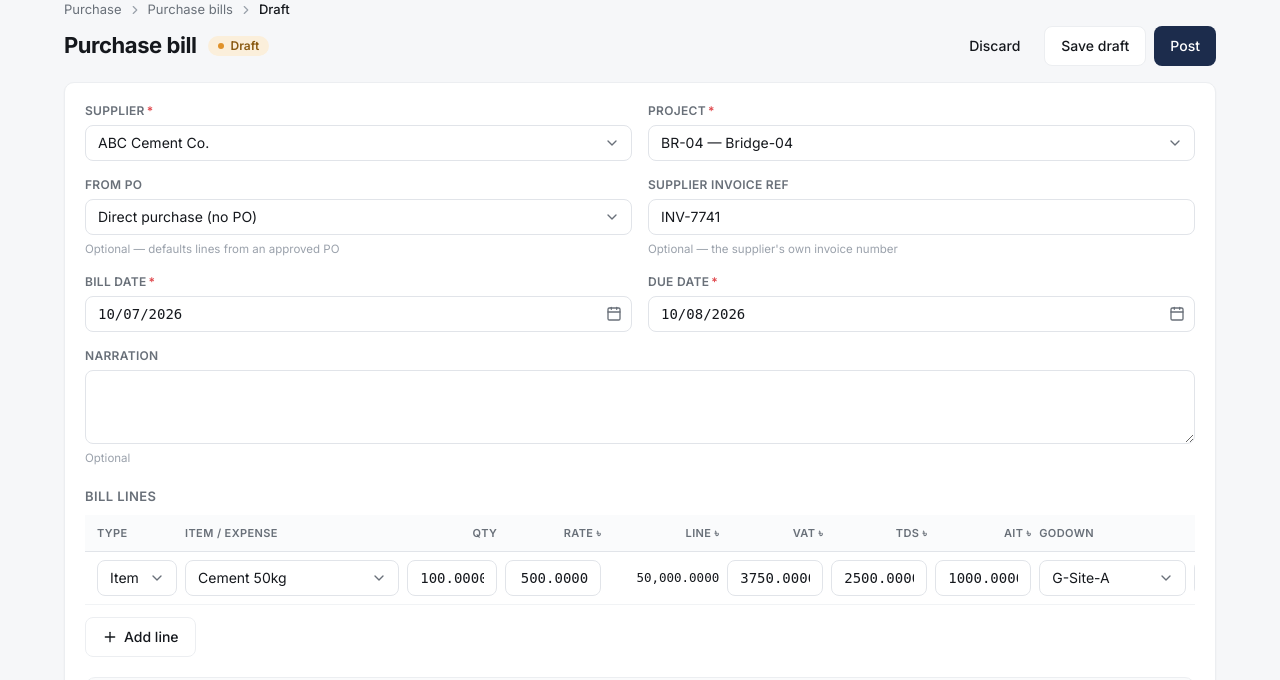
Test: BillEditor (spec §4.editor/§6/§7; FR-PUR-004/-005/-007/-024) › maps PERIOD_CLOSED to the exact spec §8 posting-guard banner
Expected: the heading "Purchase bill" is shown, [64, 29, 196, 62]
Click the button with test id "bill-post" at coordinates (1185, 46), box [1154, 26, 1216, 66]
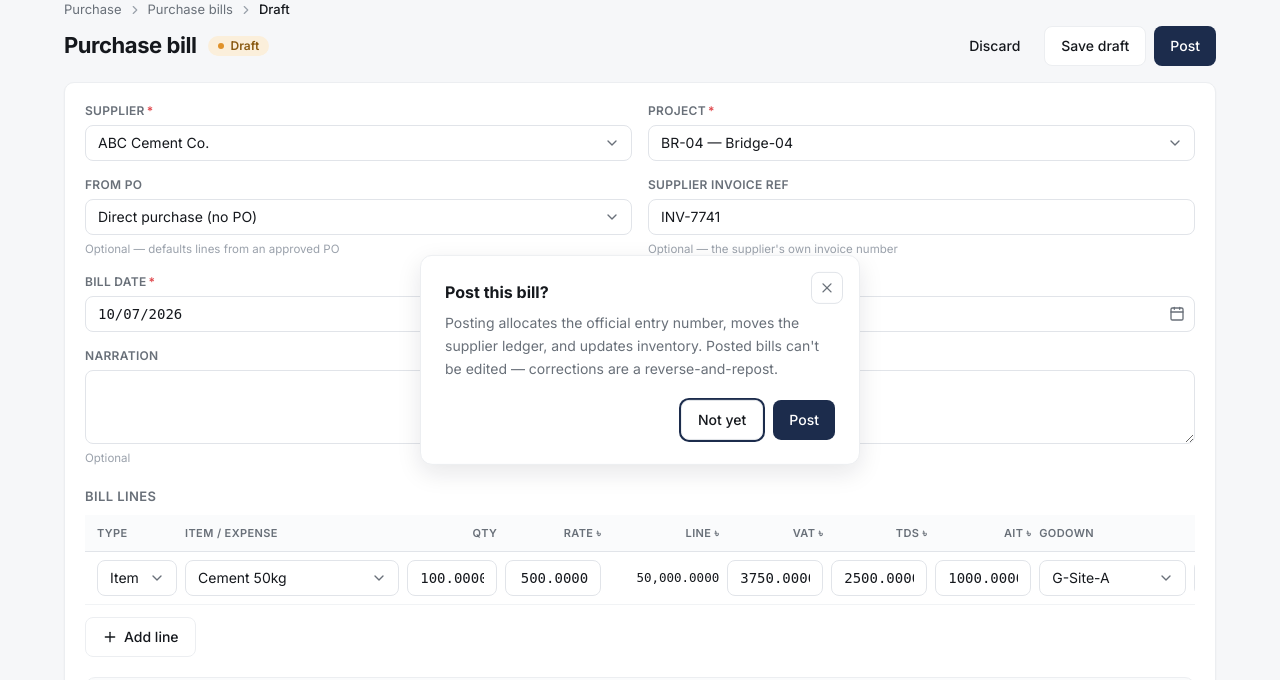
Expected: the dialog with test id "bill-post-dialog" is shown, [420, 255, 860, 465]
Click the button with test id "bill-post-confirm" at coordinates (804, 420), box [773, 400, 835, 440]
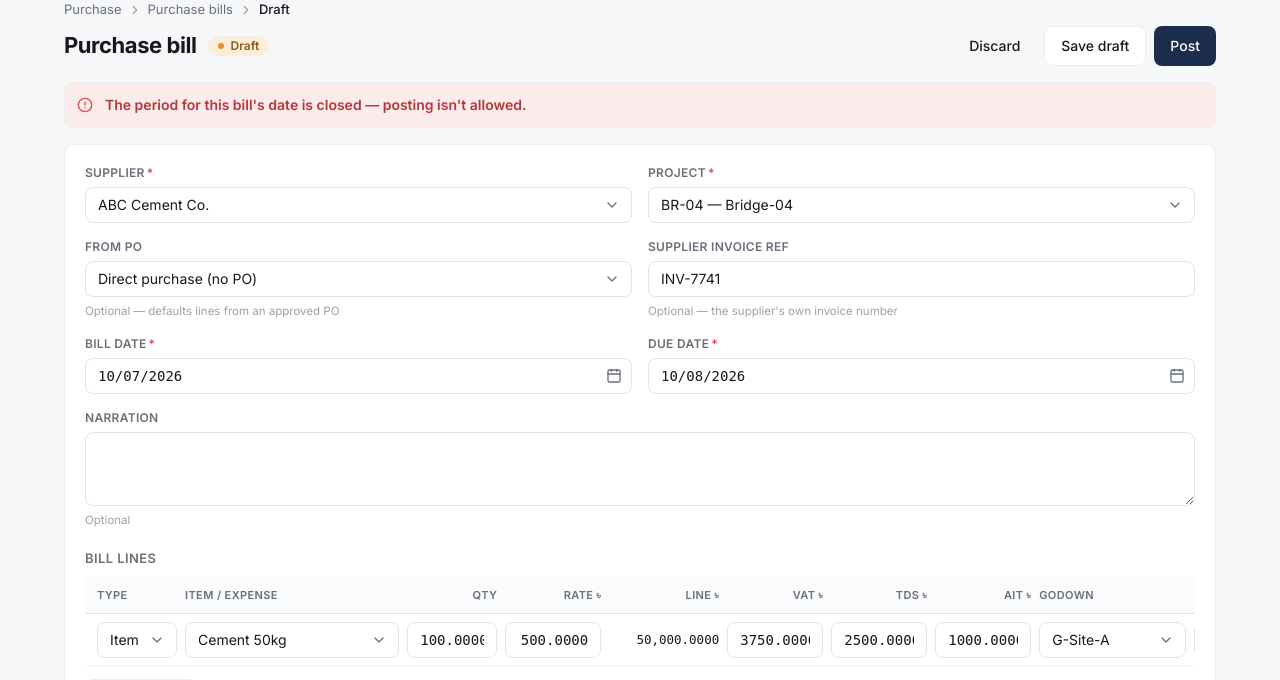
Expected: the message with test id "bill-banner" reads "The period for this bill's date is closed — posting isn't allowed.", [105, 96, 526, 112]
